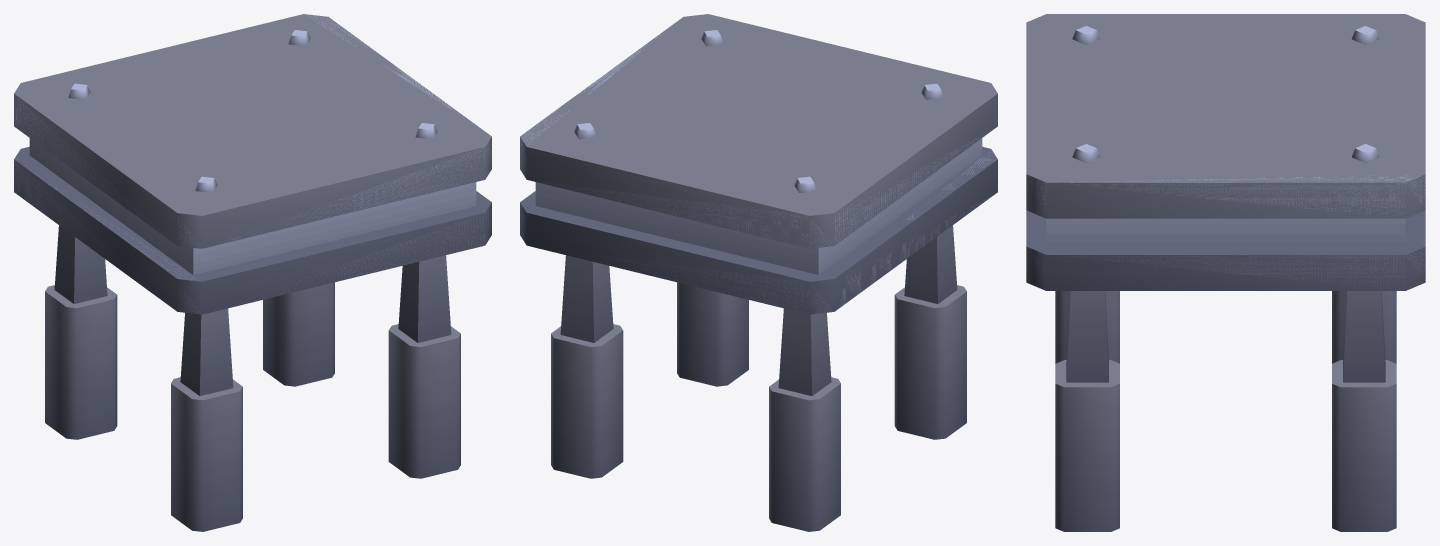
File: structure-metal-floor.glb
3 renders of one model, left to right at view 1: azimuth 30°, elevation 25°; view 2: azimuth 150°, elevation 25°; view 3: azimuth 270°, elevation 25°, orthographic. The views are drawn at different scales.
Visible parts, largest first — view 1: structure-metal-floor; view 2: structure-metal-floor; view 3: structure-metal-floor.
Part boxes in pixels (x1,y1,x2,y2): structure-metal-floor: (14,14,491,531); structure-metal-floor: (520,14,997,531); structure-metal-floor: (1026,14,1425,531).
Size of the model in its own units: 0.5 by 0.5125 by 0.5.
Materials: 1 (1 with a texture image).
